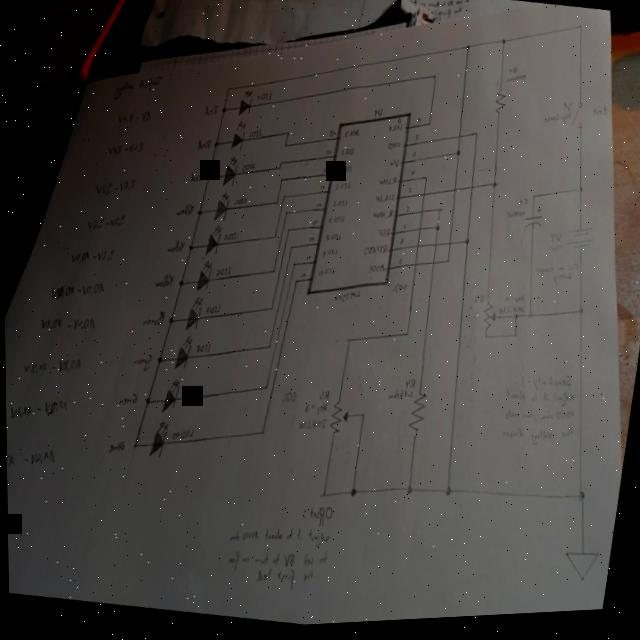capacitor: (520, 210, 545, 240)
crossover: (468, 187, 475, 197), (416, 228, 422, 238), (432, 244, 438, 254), (430, 262, 436, 272), (421, 194, 427, 203), (419, 211, 425, 220), (447, 243, 453, 252), (452, 189, 458, 198), (457, 136, 463, 145), (415, 245, 420, 254), (412, 265, 417, 273)
diode: (146, 420, 169, 461), (160, 379, 180, 418), (173, 335, 193, 374), (195, 260, 214, 297), (204, 225, 223, 260), (221, 156, 240, 191), (212, 192, 231, 226), (185, 301, 203, 336), (230, 121, 248, 156), (238, 90, 254, 121)
ground: (559, 551, 599, 591)
junction: (347, 489, 358, 503), (575, 495, 585, 510), (442, 488, 452, 502), (403, 487, 412, 499), (491, 183, 499, 195), (577, 311, 585, 322), (454, 152, 462, 163), (317, 492, 325, 502), (168, 316, 175, 327), (465, 46, 472, 57), (177, 279, 184, 290), (144, 397, 151, 408), (213, 140, 220, 151), (511, 317, 519, 326), (196, 209, 203, 219), (577, 191, 584, 201), (131, 441, 137, 452), (156, 357, 163, 366), (187, 245, 194, 254), (526, 316, 533, 325), (206, 174, 212, 184), (501, 42, 507, 51), (464, 241, 470, 250), (221, 107, 227, 116), (435, 227, 441, 236), (360, 413, 365, 423), (405, 333, 410, 343), (512, 336, 518, 344), (288, 245, 294, 253), (346, 339, 351, 348), (474, 134, 479, 143), (433, 75, 438, 84), (579, 28, 584, 37), (445, 261, 450, 270), (482, 337, 487, 346), (281, 194, 286, 203), (226, 87, 231, 95), (259, 431, 264, 439), (428, 124, 433, 132), (267, 345, 272, 353), (292, 263, 297, 271), (531, 198, 536, 206), (438, 211, 443, 219), (284, 211, 289, 219), (293, 280, 298, 288), (269, 307, 274, 314), (263, 386, 268, 393), (424, 179, 429, 186), (286, 229, 291, 236), (274, 201, 279, 208), (273, 236, 278, 243), (283, 145, 288, 152), (286, 132, 290, 138), (280, 179, 284, 185), (272, 271, 276, 277), (278, 169, 281, 174), (280, 164, 283, 168)
resistor: (405, 392, 429, 442), (326, 400, 351, 440), (479, 305, 498, 338), (493, 91, 509, 122)
source: (564, 227, 595, 261)
switch: (571, 103, 589, 137)
text: (224, 537, 328, 589), (228, 517, 330, 559), (499, 421, 575, 459), (502, 404, 575, 438), (7, 392, 69, 429), (503, 386, 576, 417), (254, 564, 314, 598), (112, 70, 164, 109), (22, 349, 81, 383), (50, 275, 107, 310), (39, 308, 98, 340), (5, 441, 58, 475), (69, 241, 116, 272), (525, 372, 572, 402), (94, 171, 137, 202), (85, 208, 126, 238), (534, 261, 579, 287), (299, 502, 333, 533), (107, 137, 145, 162), (116, 107, 154, 130), (296, 417, 327, 439), (543, 113, 572, 134), (334, 288, 361, 310), (496, 306, 527, 325), (141, 310, 166, 332), (386, 390, 413, 409), (154, 270, 176, 292), (303, 401, 327, 421), (364, 244, 388, 263), (170, 427, 195, 445), (175, 201, 196, 222), (130, 353, 152, 373), (550, 275, 573, 293), (117, 391, 138, 410), (374, 192, 396, 210), (166, 238, 186, 257), (106, 438, 126, 457), (378, 176, 398, 194), (372, 210, 394, 226), (505, 211, 526, 227), (368, 262, 386, 279), (317, 267, 336, 283), (503, 297, 524, 311), (280, 392, 297, 409), (391, 283, 409, 299), (506, 77, 527, 90), (197, 137, 213, 154), (215, 265, 232, 281), (592, 109, 609, 125), (194, 342, 212, 357), (331, 198, 349, 213), (321, 249, 339, 264), (334, 181, 352, 196), (204, 104, 220, 120), (189, 170, 205, 186), (205, 303, 222, 318), (324, 233, 342, 247), (256, 92, 272, 107), (241, 161, 256, 177), (344, 129, 360, 144), (337, 165, 353, 180), (183, 383, 200, 397), (327, 216, 344, 230), (376, 229, 391, 244), (388, 125, 404, 139), (223, 230, 237, 246), (387, 141, 401, 156), (341, 147, 355, 162), (249, 128, 263, 143), (234, 196, 249, 209), (388, 159, 401, 174), (403, 381, 416, 396), (472, 295, 485, 310), (317, 391, 330, 405), (549, 237, 562, 249), (549, 248, 562, 260), (373, 109, 384, 122), (562, 107, 573, 119), (518, 201, 529, 212), (410, 151, 418, 164), (414, 135, 421, 147), (407, 188, 414, 200), (328, 132, 337, 141), (398, 239, 405, 250), (397, 258, 404, 269), (405, 206, 411, 218), (307, 237, 315, 246), (325, 151, 333, 160), (509, 72, 518, 80), (300, 273, 307, 282), (305, 256, 312, 265), (312, 220, 319, 229), (318, 186, 325, 195), (316, 203, 323, 212), (322, 169, 329, 177), (402, 225, 407, 234), (410, 172, 415, 181), (417, 120, 422, 129)
